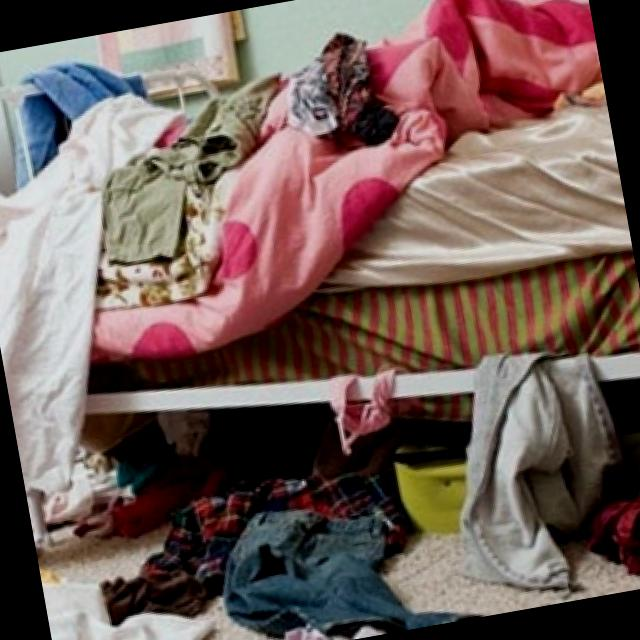mess: (0, 0, 640, 459), (13, 313, 640, 640)
